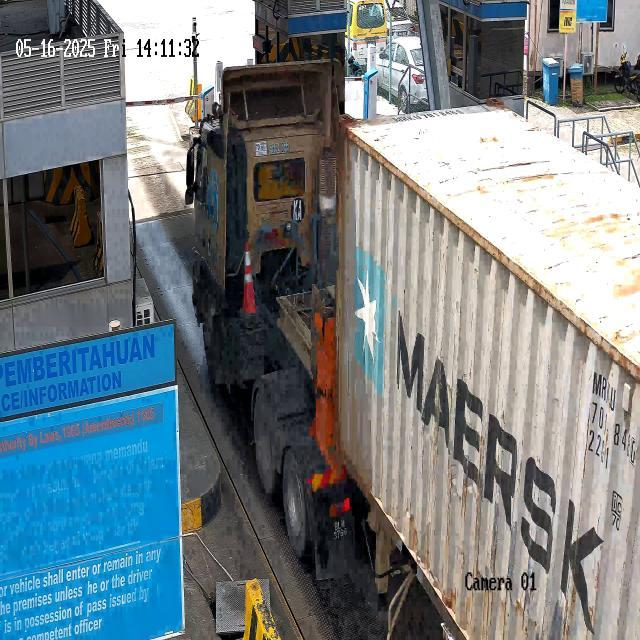ISO: (586, 425, 614, 473)
container_number: (591, 363, 640, 462)
